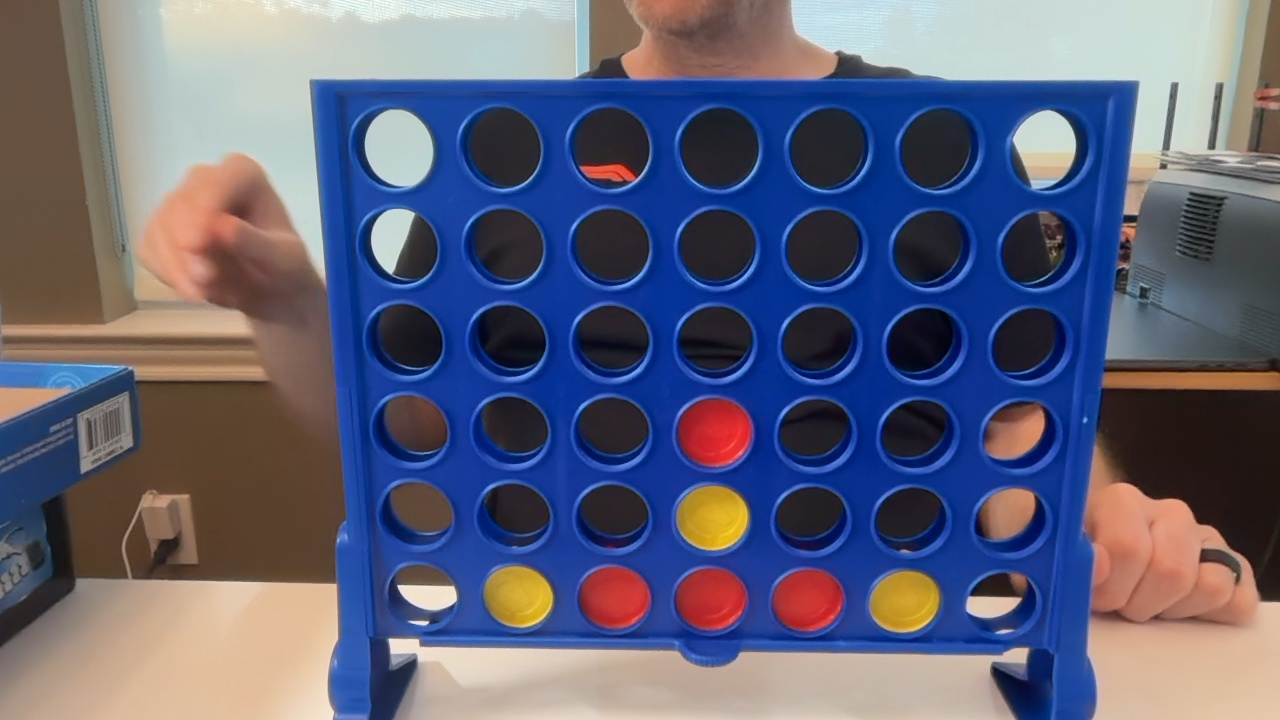red piece: (677, 398, 752, 466), (675, 568, 747, 631), (772, 569, 844, 632), (579, 566, 651, 629)
yellow piece: (676, 485, 748, 551), (483, 565, 553, 628), (869, 571, 940, 632)
